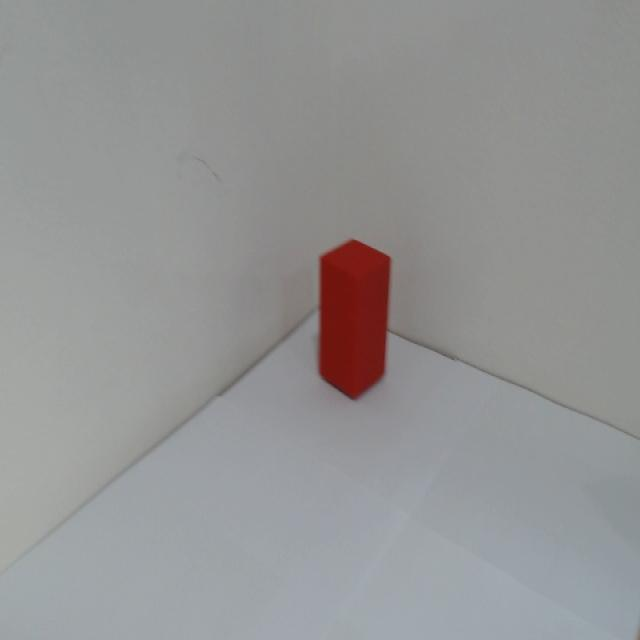cube: (314, 235, 394, 406)
